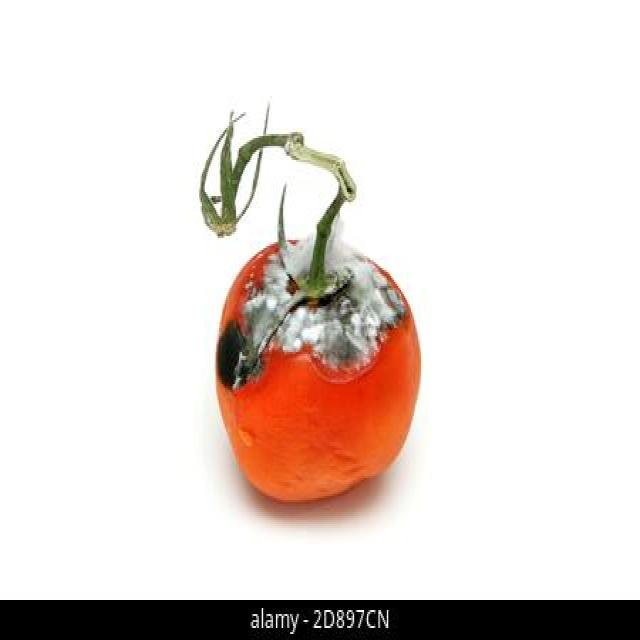Rotten: (213, 227, 422, 500)
